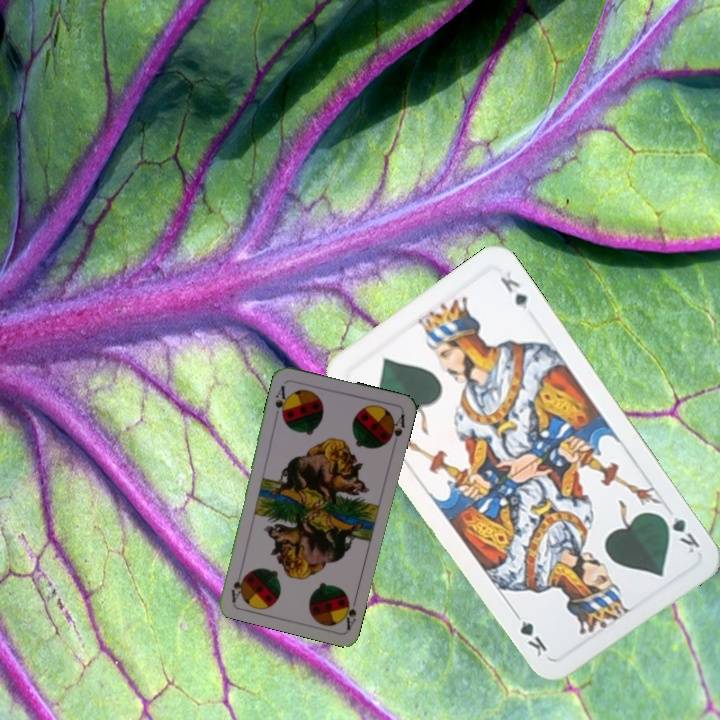GK: (656, 509, 703, 556)
SA: (337, 592, 359, 632), (271, 381, 291, 420)
